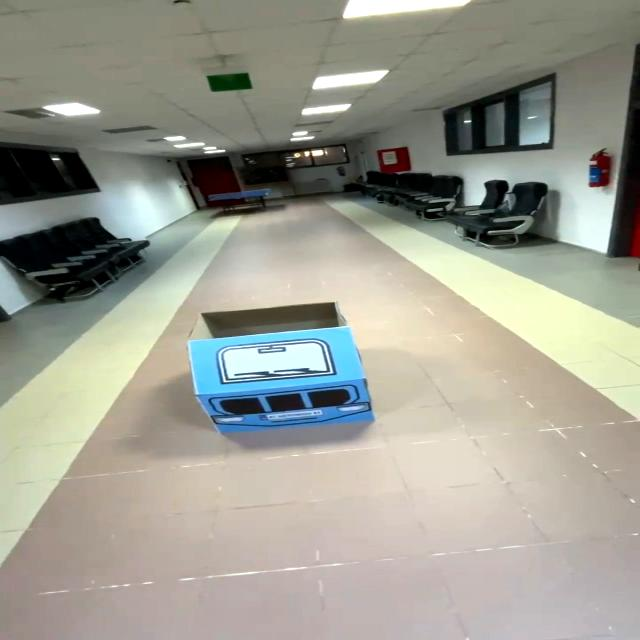blue_car: (140, 291, 431, 451)
